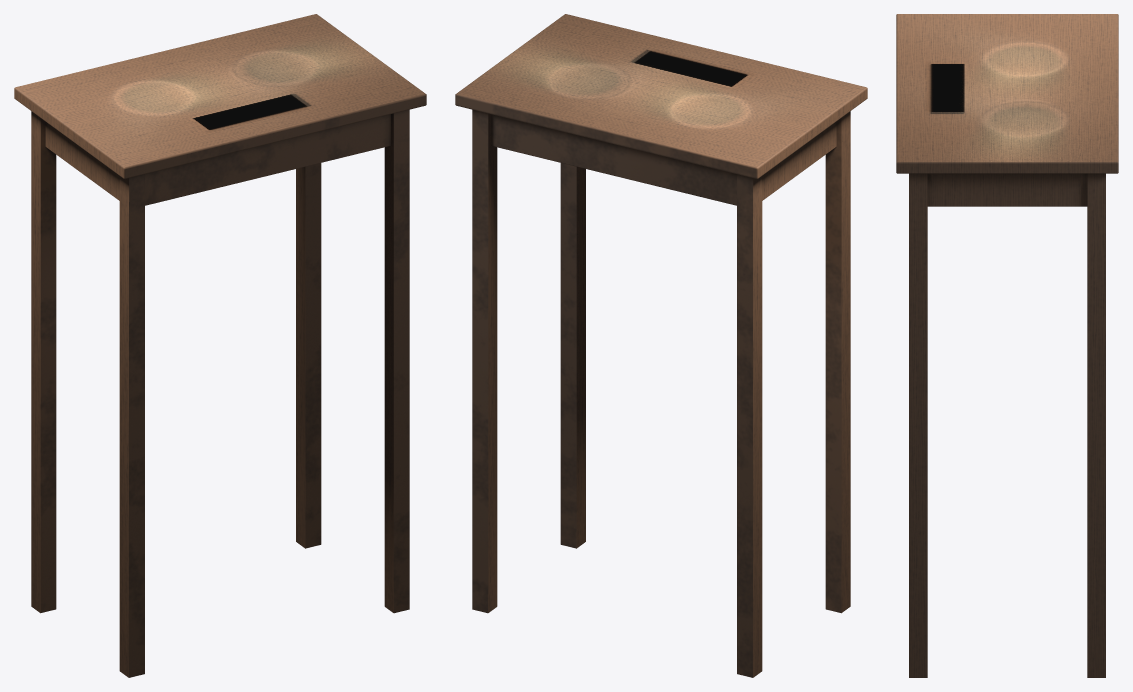
The model's file is 815_acid.glb.
3 renders of one model, left to right at view 1: azimuth 30°, elevation 25°; view 2: azimuth 150°, elevation 25°; view 3: azimuth 270°, elevation 25°, orthographic.
Visible parts, largest first — view 1: Table; view 2: Table; view 3: Table.
Boxes of the visible parts, left/top/right/bottom form: Table: left=14, top=14, right=426, bottom=677; Table: left=455, top=14, right=867, bottom=677; Table: left=896, top=14, right=1118, bottom=677.
Size of what is drawn, in the model's own units: 1.9 by 3.1 by 1.2.
Materials: 1 (1 with a texture image).
